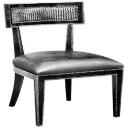chair_success: (0, 2, 125, 126)
